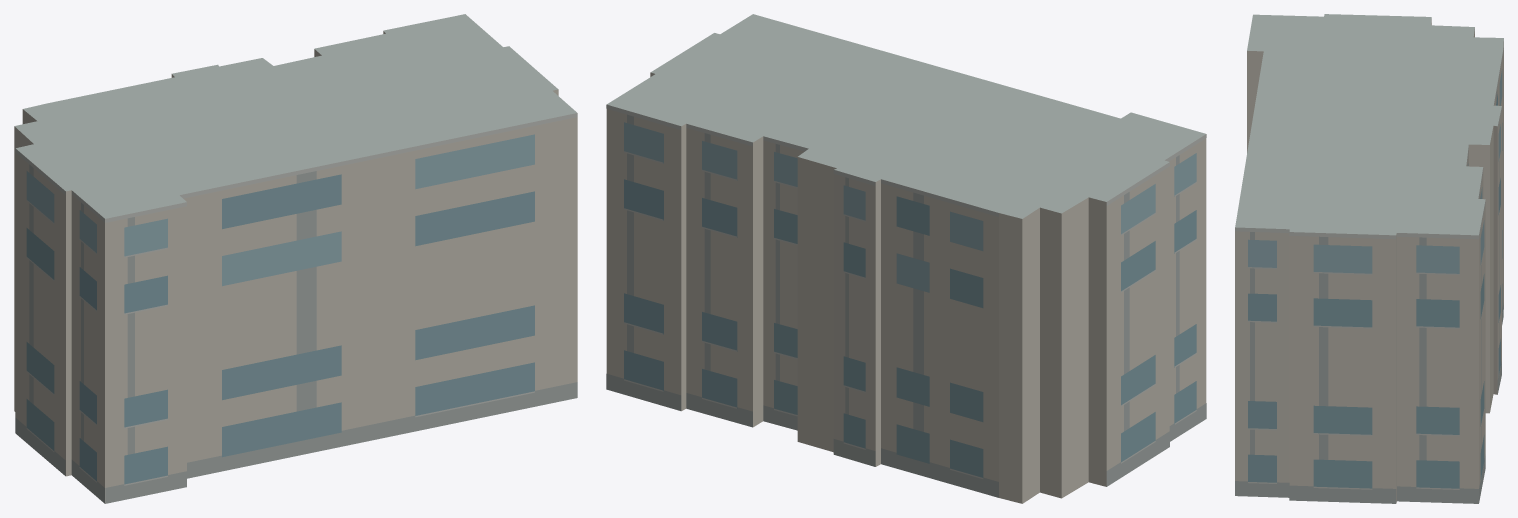
The model's file is survey-upis-32856479.glb.
3 renders of one model, left to right at view 1: azimuth 30°, elevation 25°; view 2: azimuth 150°, elevation 25°; view 3: azimuth 270°, elevation 25°, orthographic. The views are drawn at different scales.
Parts seen in each view (by area): view 1: survey-upis-32856479.tmp; view 2: survey-upis-32856479.tmp; view 3: survey-upis-32856479.tmp.
Boxes of the visible parts, left/top/right/bottom form: survey-upis-32856479.tmp: left=14, top=14, right=577, bottom=503; survey-upis-32856479.tmp: left=606, top=14, right=1206, bottom=503; survey-upis-32856479.tmp: left=1235, top=14, right=1503, bottom=503.
Bounding box in the file's own units: 29.9 × 16.91 × 15.35.
